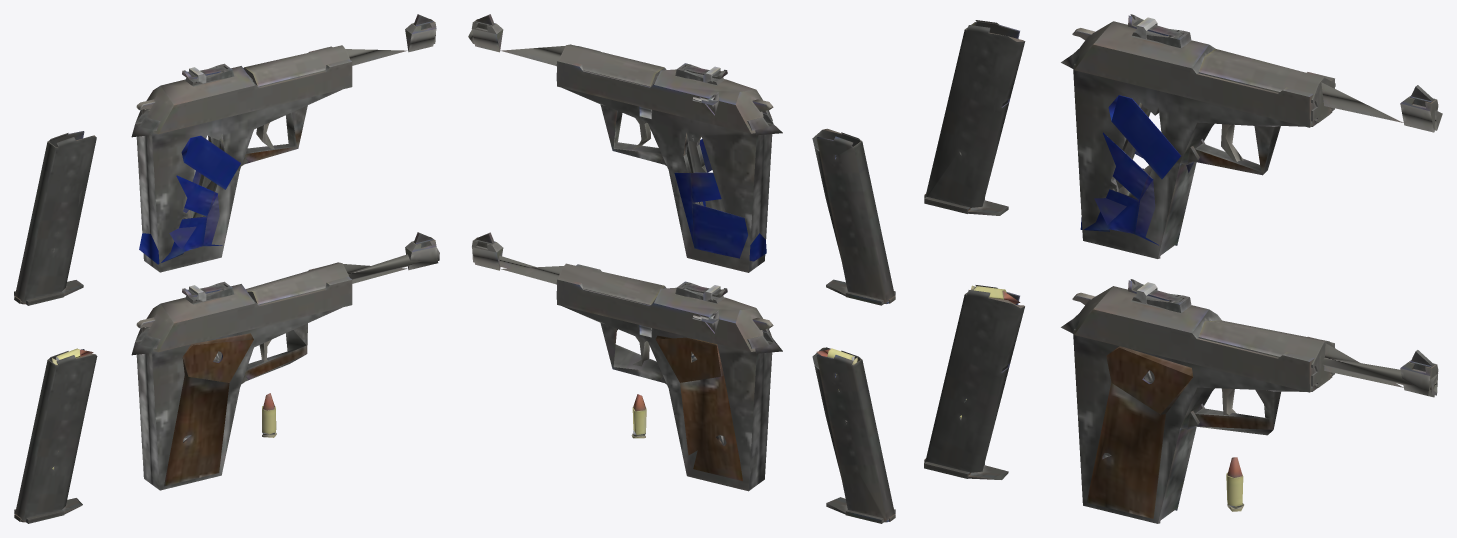
Rendered from service_pistol_lod1.glb.
3 renders of one model, left to right at view 1: azimuth 30°, elevation 25°; view 2: azimuth 150°, elevation 25°; view 3: azimuth 330°, elevation 25°, orthographic. The views are drawn at different scales.
Visible parts, largest first — view 1: service_pistol_pistol_a, service_pistol_pistol_b, service_pistol_magazine_loaded, service_pistol_magazine_empty, service_pistol_slide_b, service_pistol_slide_a, service_pistol_bullet; view 2: service_pistol_pistol_a, service_pistol_pistol_b, service_pistol_magazine_loaded, service_pistol_magazine_empty, service_pistol_slide_a, service_pistol_slide_b, service_pistol_bullet; view 3: service_pistol_pistol_a, service_pistol_pistol_b, service_pistol_magazine_loaded, service_pistol_magazine_empty, service_pistol_slide_a, service_pistol_slide_b, service_pistol_bullet.
Part boxes in pixels (box(x1,y1,x2,y2)): service_pistol_pistol_a: box(131, 232, 439, 490); service_pistol_pistol_b: box(131, 14, 436, 272); service_pistol_magazine_loaded: box(14, 348, 97, 523); service_pistol_magazine_empty: box(14, 131, 96, 305); service_pistol_slide_b: box(142, 46, 352, 134); service_pistol_slide_a: box(142, 266, 352, 352); service_pistol_bullet: box(262, 393, 276, 437); service_pistol_pistol_a: box(472, 232, 782, 491); service_pistol_pistol_b: box(468, 14, 782, 272); service_pistol_magazine_loaded: box(812, 347, 895, 523); service_pistol_magazine_empty: box(812, 128, 895, 305); service_pistol_slide_a: box(557, 264, 772, 351); service_pistol_slide_b: box(557, 46, 772, 133); service_pistol_bullet: box(631, 394, 646, 438); service_pistol_pistol_a: box(1061, 313, 1438, 523); service_pistol_pistol_b: box(1061, 48, 1442, 258); service_pistol_magazine_loaded: box(924, 285, 1024, 479); service_pistol_magazine_empty: box(924, 20, 1025, 215); service_pistol_slide_a: box(1073, 279, 1334, 392); service_pistol_slide_b: box(1073, 14, 1334, 127); service_pistol_bullet: box(1226, 457, 1244, 511).
Size of the model in its own units: 0.3016 by 0.2807 by 0.0302.
1 material, 1 textured.
